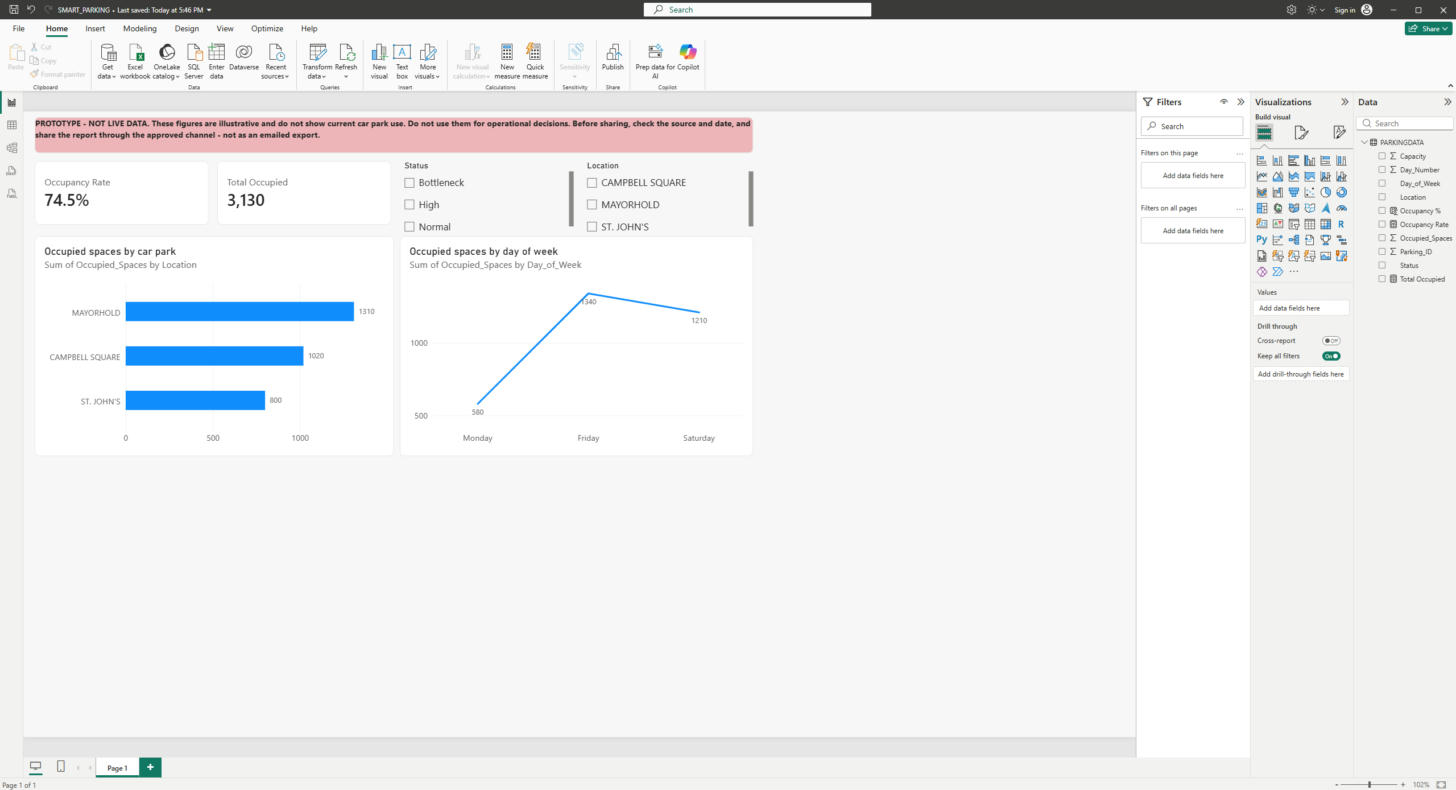

The dashboard page shown, as its layout file describes it:
{"tool":"powerbi","page":{"name":"Page 1","canvas":[1920,1080],"ordinal":0},"visuals":[{"type":"clusteredBarChart","title":"Occupied spaces by car park","fields":{"Category":["PARKINGDATA.Location"],"Y":["Sum(PARKINGDATA.Occupied_Spaces)"]},"box":[20,215,620,380],"z":0},{"type":"lineChart","title":"Occupied spaces by day of week","fields":{"Category":["PARKINGDATA.Day_of_Week"],"Y":["Sum(PARKINGDATA.Occupied_Spaces)"]},"box":[650,215,610,380],"z":1},{"type":"cardVisual","fields":{"Data":["PARKINGDATA.Occupancy Rate"]},"box":[20,85,300,110],"z":2},{"type":"cardVisual","fields":{"Data":["PARKINGDATA.Total Occupied"]},"box":[335,85,300,110],"z":3},{"type":"slicer","fields":{"Values":["PARKINGDATA.Status"]},"box":[650,85,300,125],"z":4},{"type":"slicer","fields":{"Values":["PARKINGDATA.Location"]},"box":[965,85,295,125],"z":5},{"type":"textbox","box":[20,10,1240,62],"z":6}]}

Visuals, with their boxes in screenshot pixels (x1, y1, x2, y2):
"Occupied spaces by car park" clusteredBarChart: left=121, top=113, right=567, bottom=387
"Occupied spaces by day of week" lineChart: left=574, top=113, right=1014, bottom=387
cardVisual - PARKINGDATA.Occupancy Rate: left=121, top=20, right=337, bottom=99
cardVisual - PARKINGDATA.Total Occupied: left=347, top=20, right=563, bottom=99
slicer - PARKINGDATA.Status: left=574, top=20, right=790, bottom=110
slicer - PARKINGDATA.Location: left=801, top=20, right=1014, bottom=110
textbox: left=121, top=0, right=1014, bottom=10
